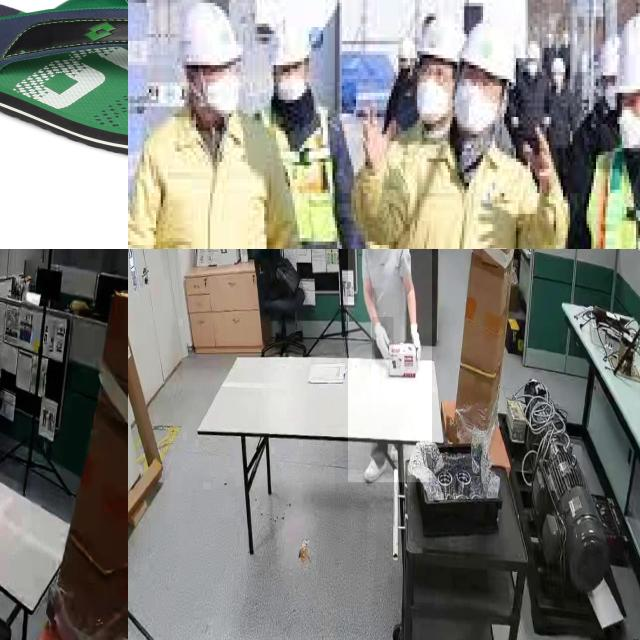Harness: (269, 108, 331, 247), (602, 145, 640, 249)
Sandals: (0, 0, 128, 164)
hand_glove: (372, 317, 394, 361), (404, 317, 424, 361)
person: (347, 249, 432, 483)
shoes: (364, 444, 391, 487)
